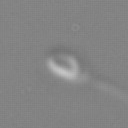normal: (80, 73, 128, 107)
